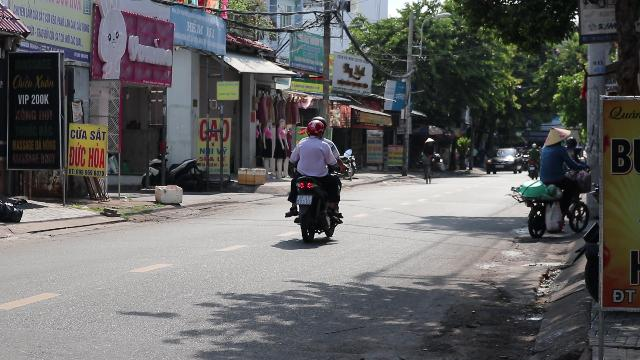helmet: (305, 118, 325, 138)
licenseplate: (296, 196, 312, 204)
motorcyclist: (284, 118, 346, 242)
